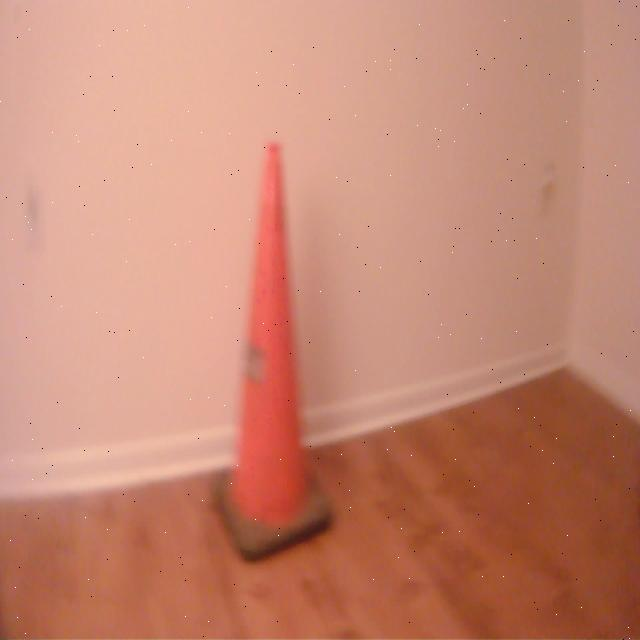traffic cone: (212, 132, 339, 572)
